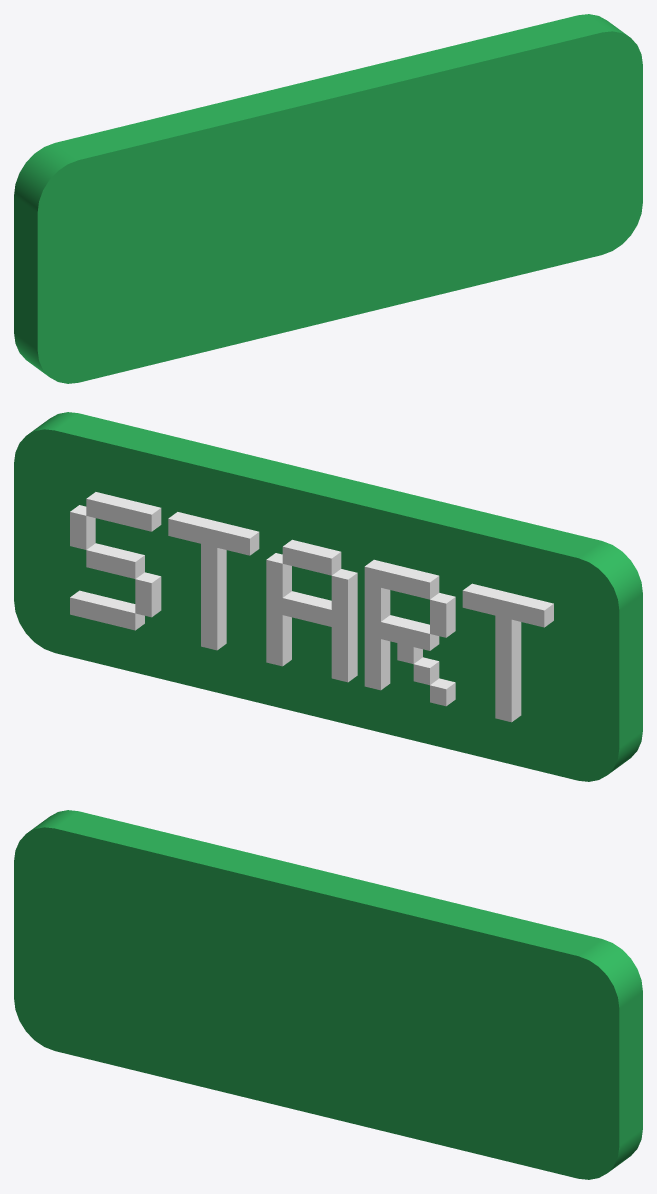
The model's file is BotonStart.obj.
3 views of the same model, one above another, from view 1: azimuth 30°, elevation 25°; view 2: azimuth 150°, elevation 25°; view 3: azimuth 330°, elevation 25° (orthographic).
Visible parts, largest first — view 1: BotonStart; view 2: BotonStart; view 3: BotonStart.
Boxes of the visible parts, x1,y1,x2,y2 form: BotonStart: [14, 14, 642, 383]; BotonStart: [14, 412, 642, 781]; BotonStart: [14, 810, 642, 1179].
Size of the model in its own units: 3.7 by 1.3 by 0.35.
